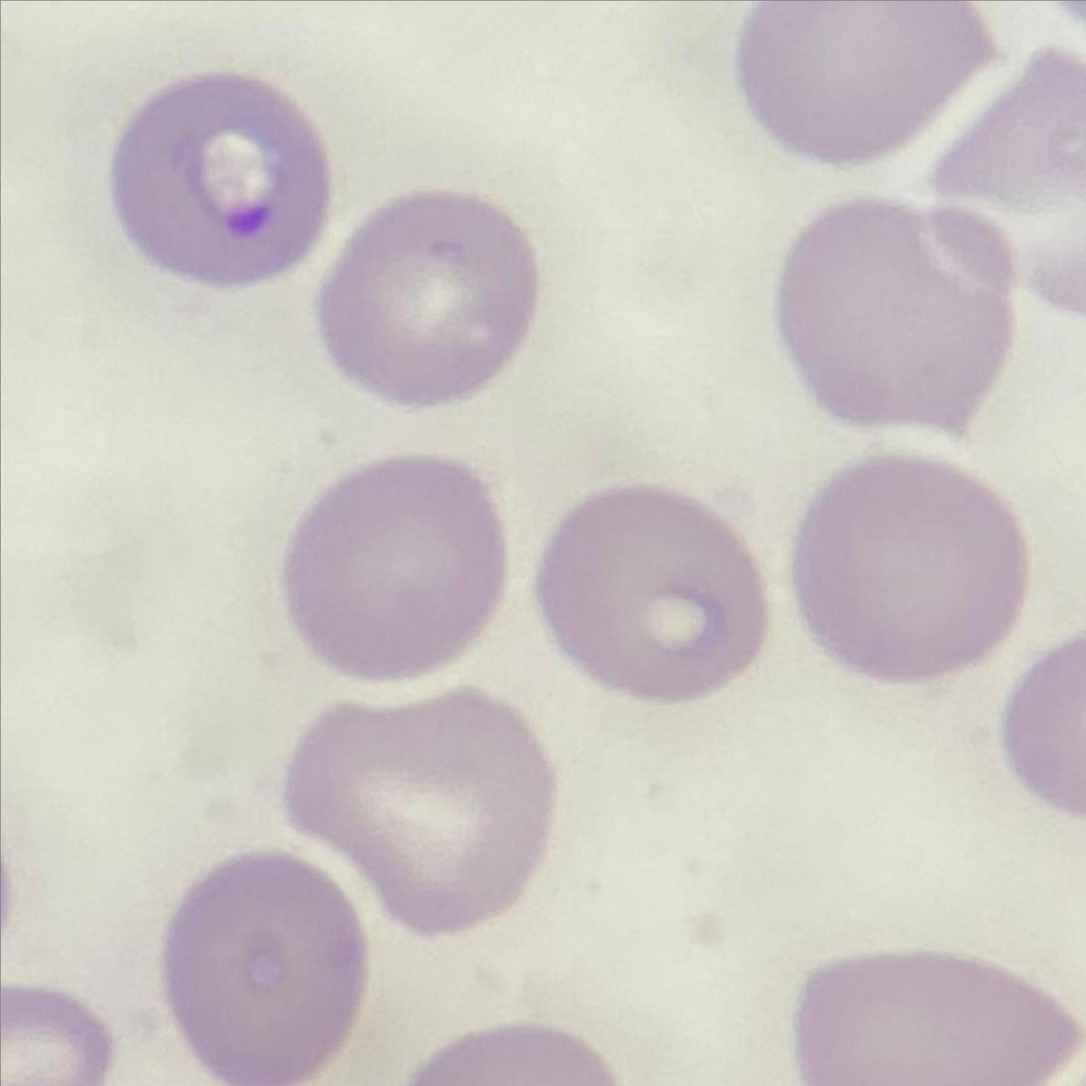Infected: (111, 76, 328, 290)
Uninfected: (289, 689, 549, 928), (775, 202, 1024, 436), (796, 446, 1022, 676), (536, 487, 769, 700), (289, 455, 506, 682), (166, 846, 368, 1086), (328, 189, 540, 409), (738, 0, 1000, 165), (793, 945, 1086, 1086)
